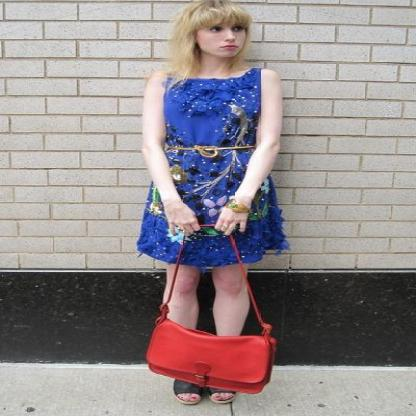bag: (147, 320, 288, 394)
dress: (136, 64, 289, 266)
shoe: (174, 380, 250, 416)
